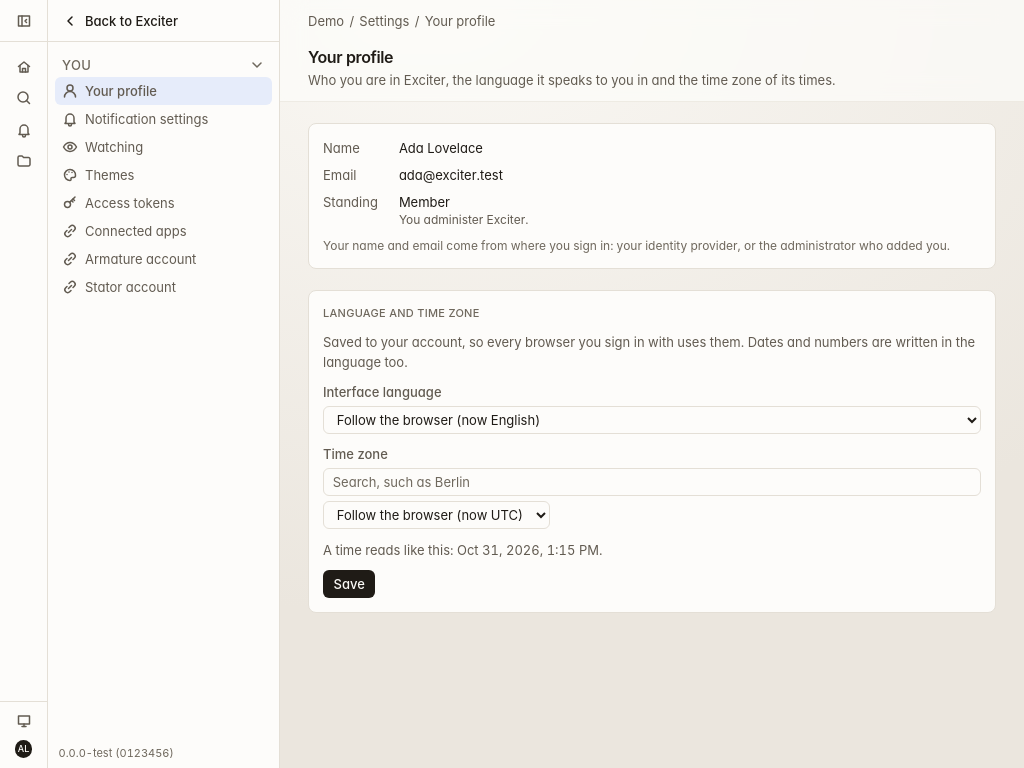
saving the language and time zone on Your profile › finds a time zone by part of its name, and says when none has it
The width and height of the screenshot is (1024, 768).
In the search field with placeholder "Search, such as Berlin": [652, 482] box [323,468,981,496], type "new york"
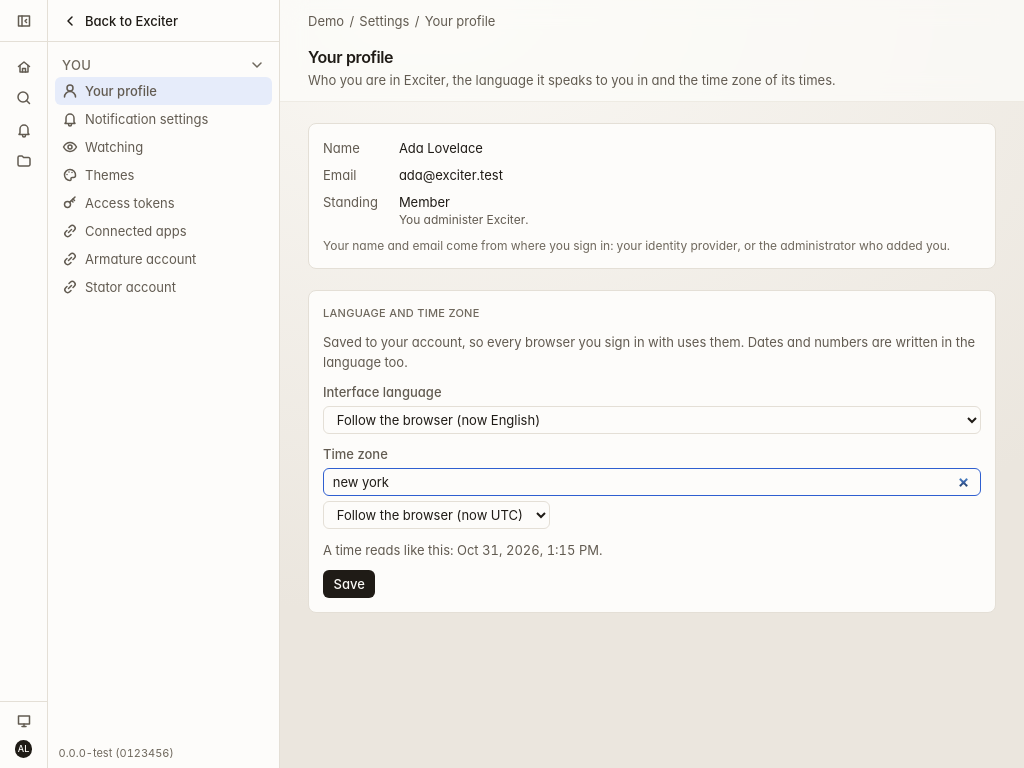
Replace the text in the search field named "Find: Time zone" with "atlantis": [652, 482] box [323,468,981,496]
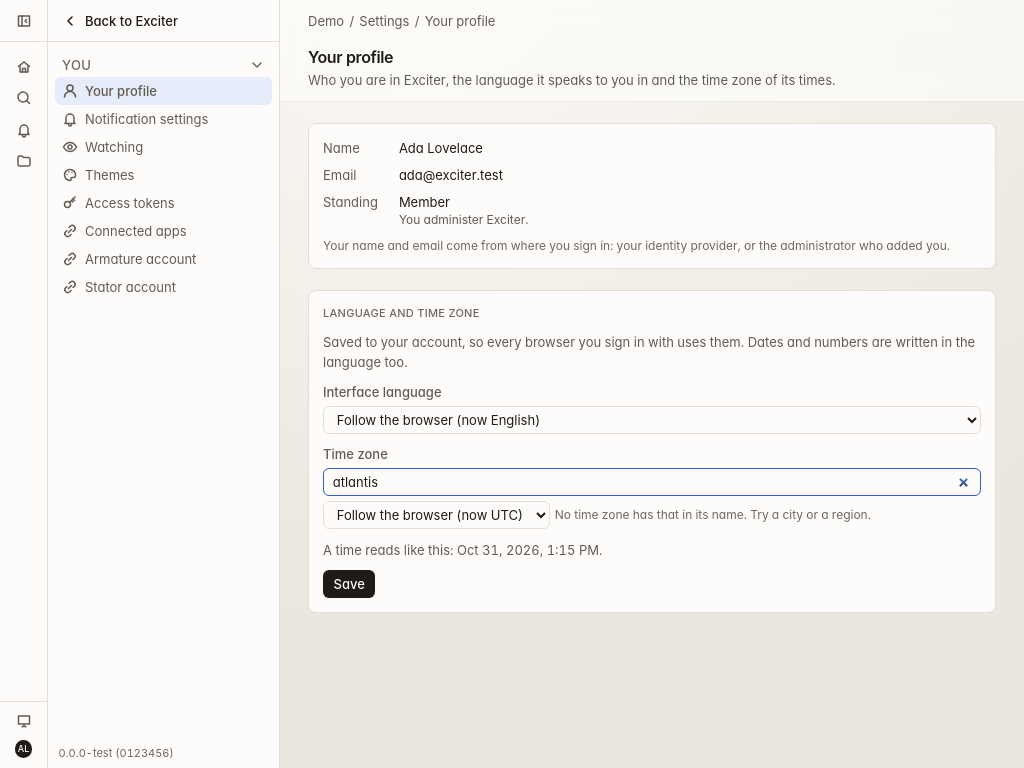
Expected: the text "No time zone has that in its name. Try a city or a region." is shown, [555,507,871,523]
